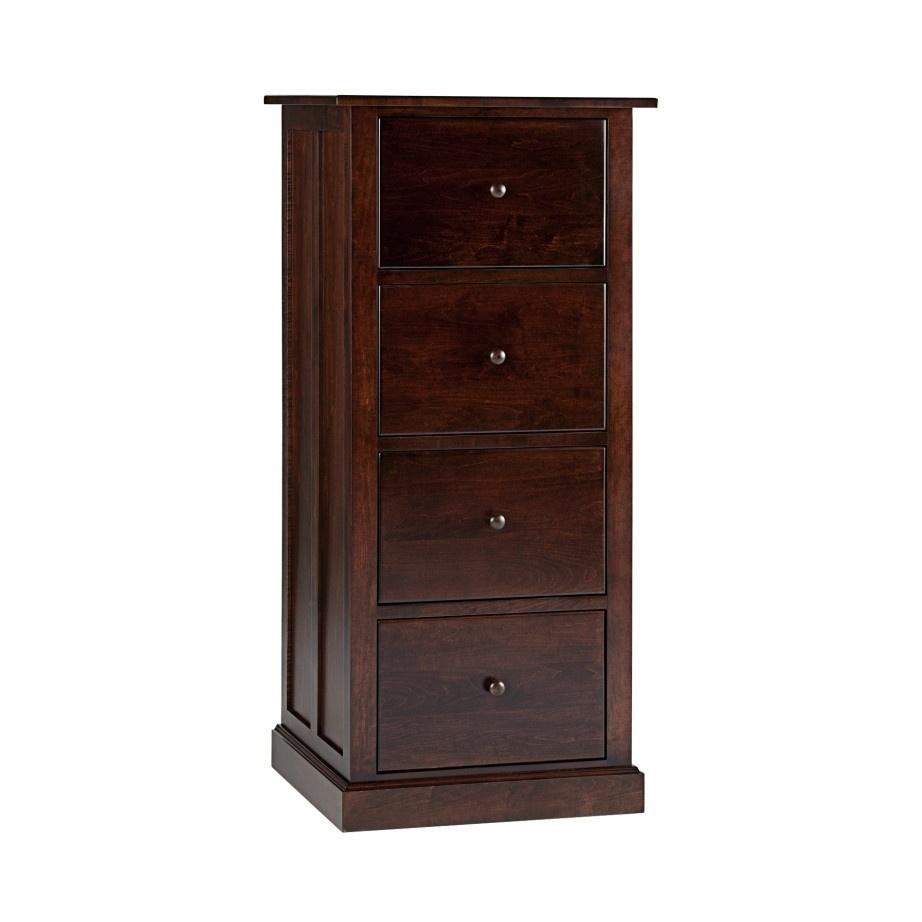cabinet_door: (384, 435, 606, 607), (380, 605, 605, 771), (386, 270, 606, 438), (387, 117, 605, 267)
handle: (480, 666, 511, 711), (486, 497, 512, 543), (487, 338, 513, 379), (488, 176, 513, 210)
